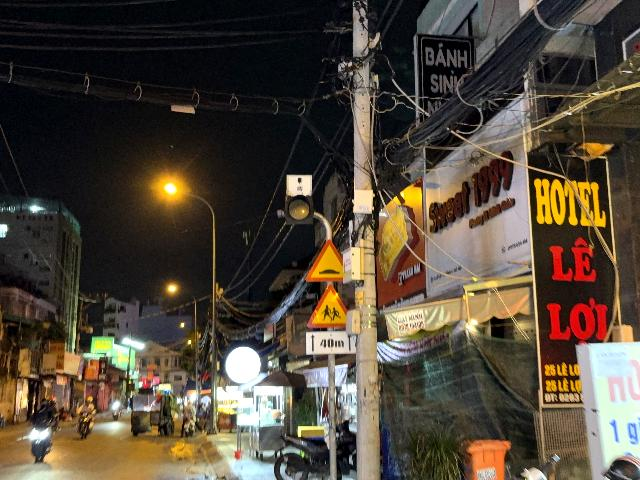duong-co-go-giam-toc: (304, 239, 343, 282)
tre-em-qua-duong: (306, 283, 347, 328)
